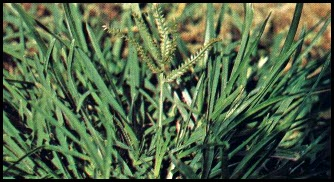crabgrass: (3, 5, 327, 182)
